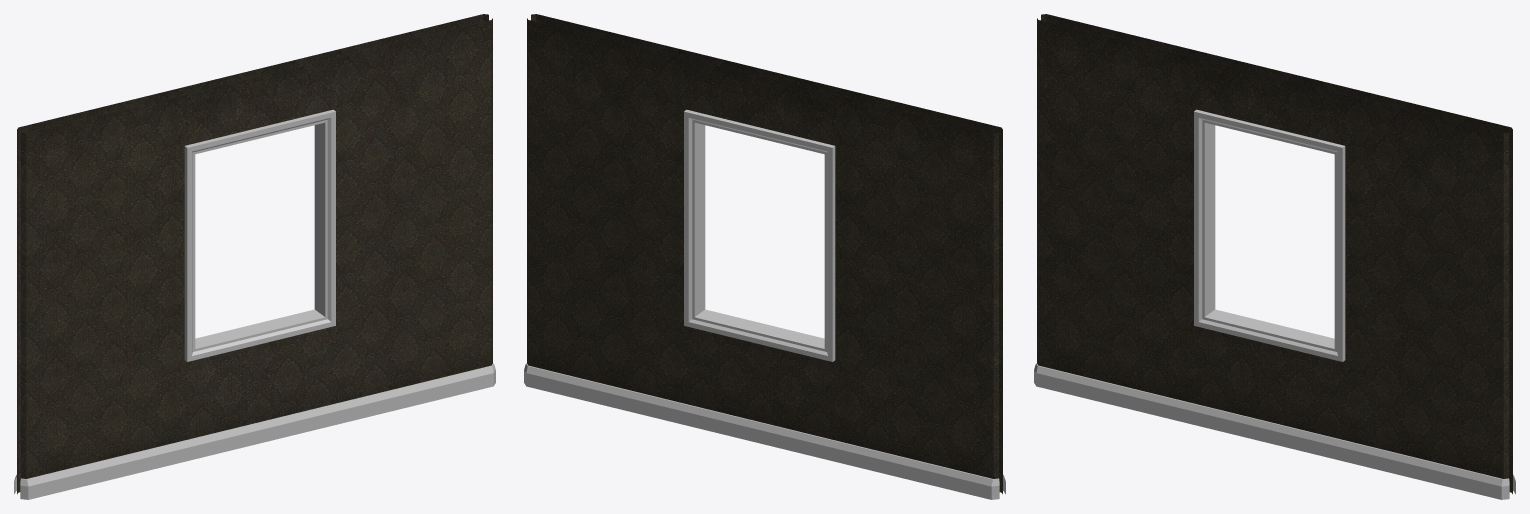
Rendered from window_2_2_single_frame_only.fbx.
3 views of the same model, side by side, from view 1: azimuth 30°, elevation 25°; view 2: azimuth 150°, elevation 25°; view 3: azimuth 330°, elevation 25° (orthographic).
Parts seen in each view (by area): view 1: window_2_2_single_frame_only; view 2: window_2_2_single_frame_only; view 3: window_2_2_single_frame_only.
Part boxes in pixels (left/top/right/bottom): window_2_2_single_frame_only: left=14, top=14, right=495, bottom=499; window_2_2_single_frame_only: left=524, top=14, right=1005, bottom=499; window_2_2_single_frame_only: left=1034, top=14, right=1515, bottom=499.
Size of the model in its own units: 4.09 by 0.2 by 3.
